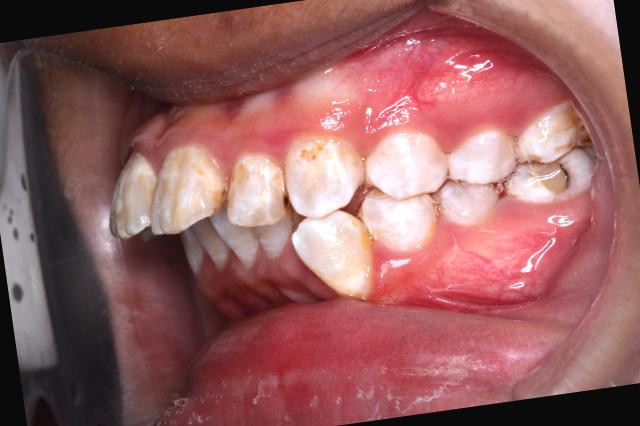canine class II 1/2: (274, 111, 450, 311)
molar class I: (493, 99, 604, 216)
